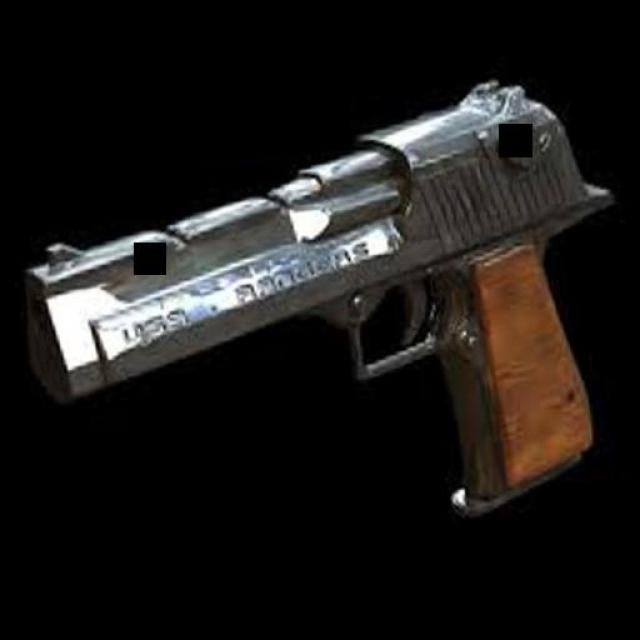gun: (2, 45, 640, 554)
